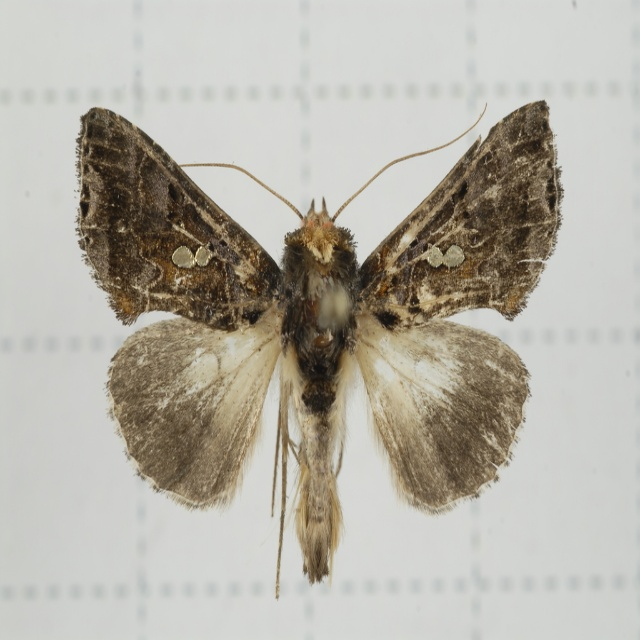Butterfly: (74, 105, 566, 598)
